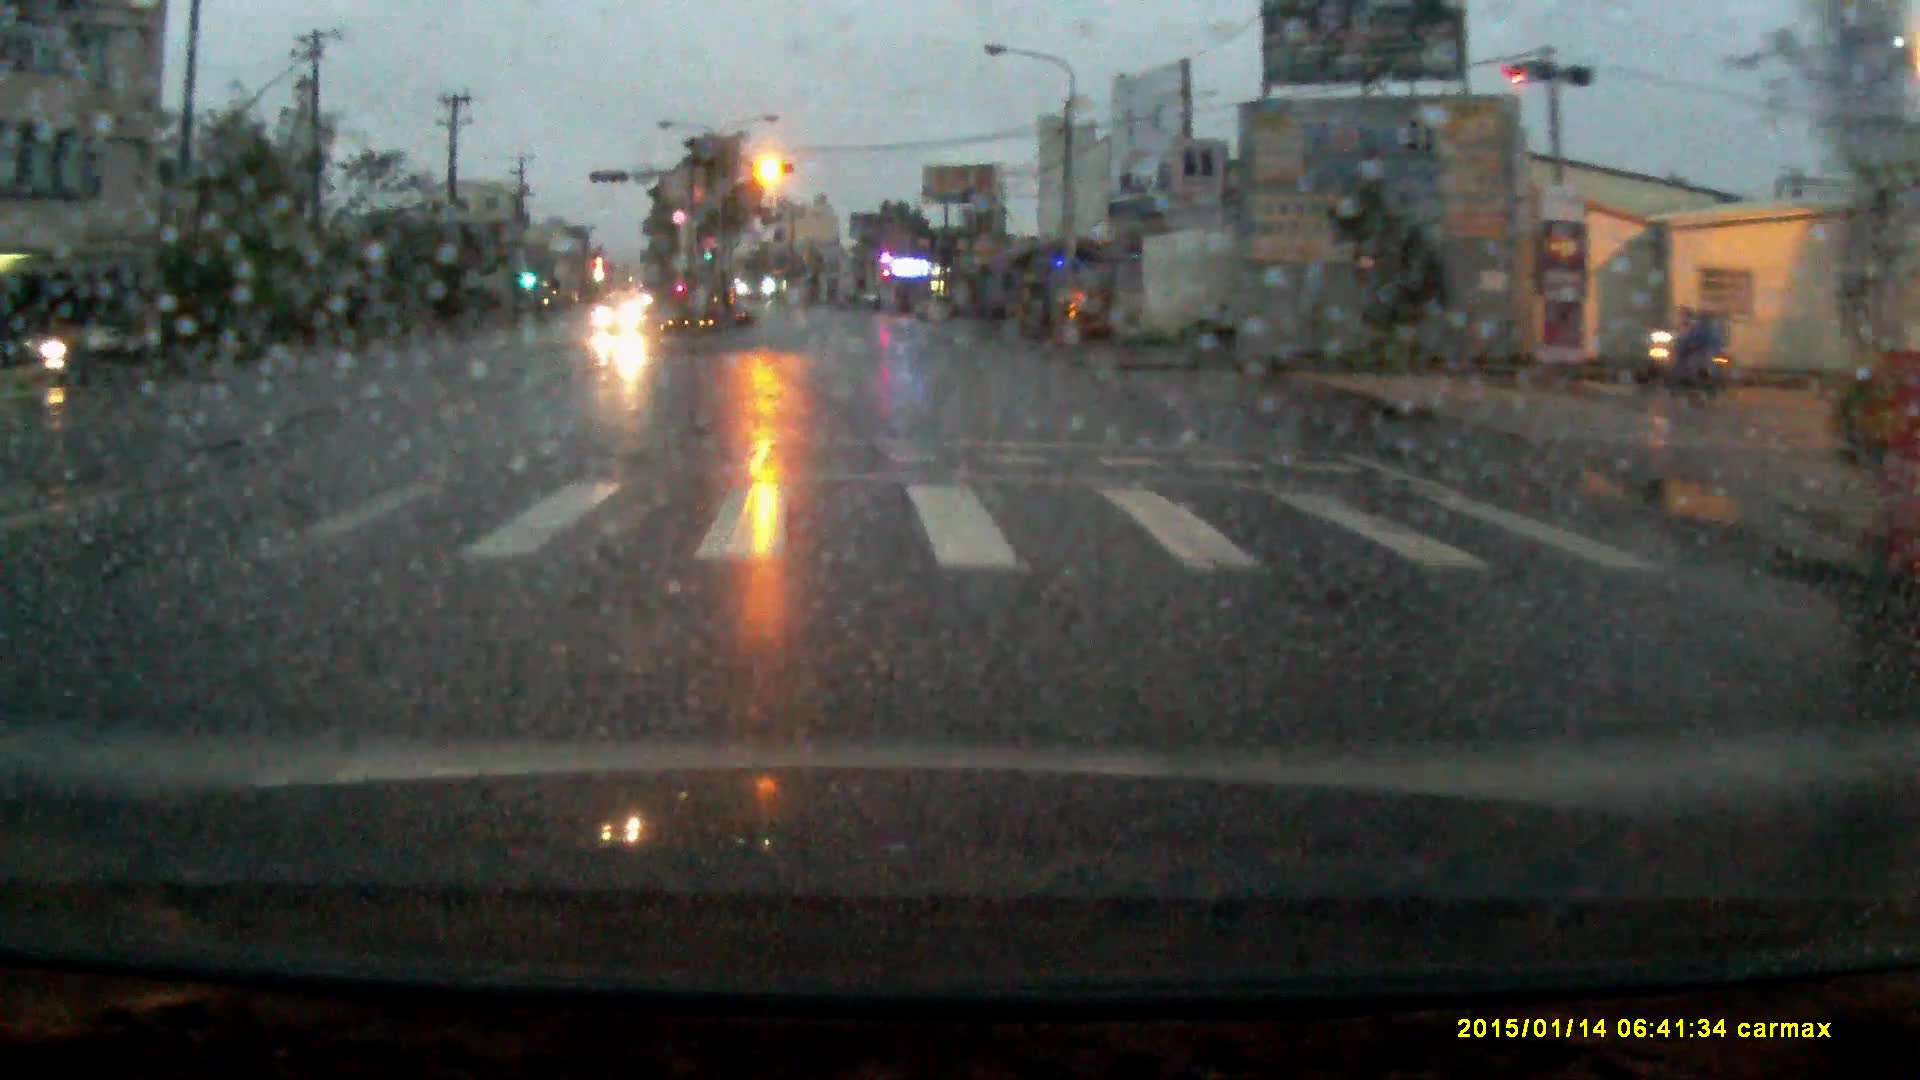rider: (1647, 294, 1725, 395), (38, 301, 86, 382)
vehicle: (595, 291, 653, 333)
